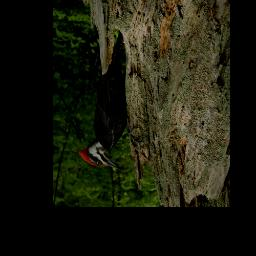Woodpecker: (78, 29, 143, 171)
